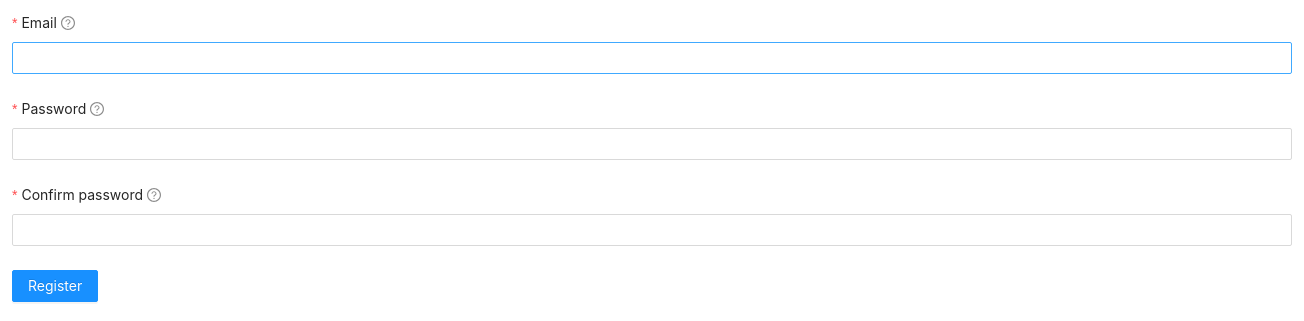
Scenario: Register form › should be able to validate an email
Type "kovchyk" into the field at (652, 58), box [12,42,1292,74]
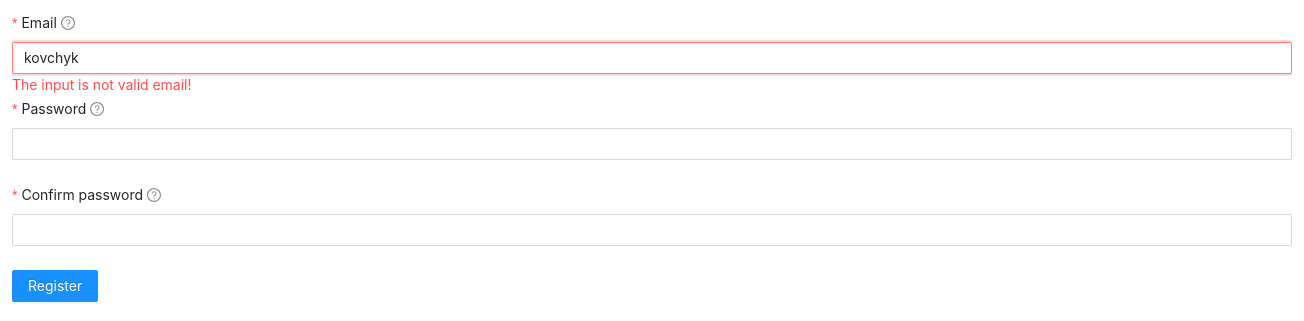
Expected: the text "The input is not valid email!" is shown, [12,76,192,93]
